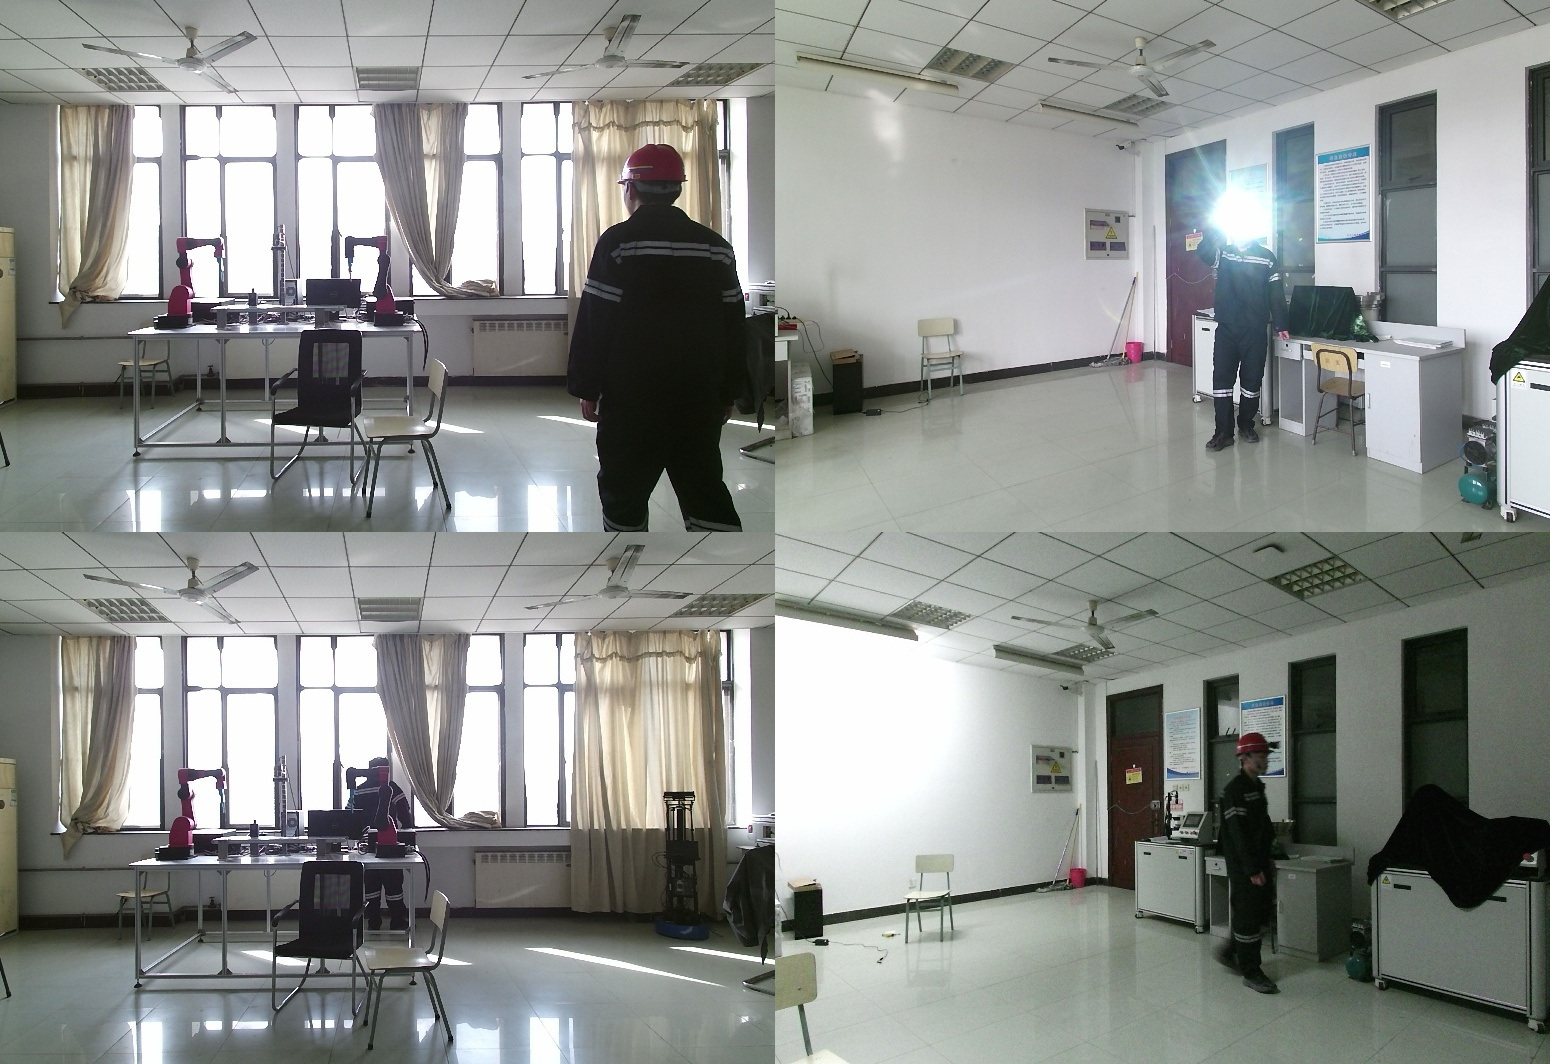person: (575, 145, 758, 532), (1194, 733, 1286, 995), (1199, 209, 1291, 447), (345, 758, 418, 951)
